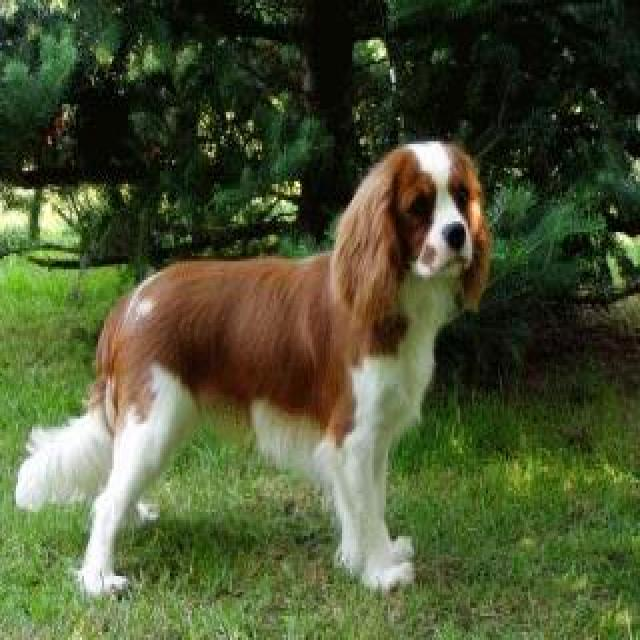blenheim_spaniel: (16, 128, 496, 600)
